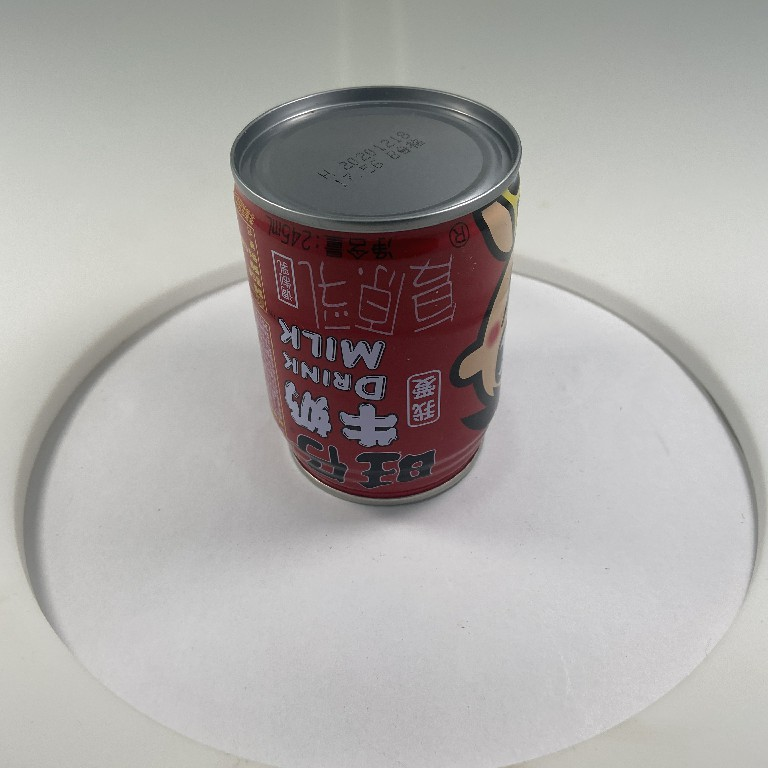can: (224, 78, 525, 513)
